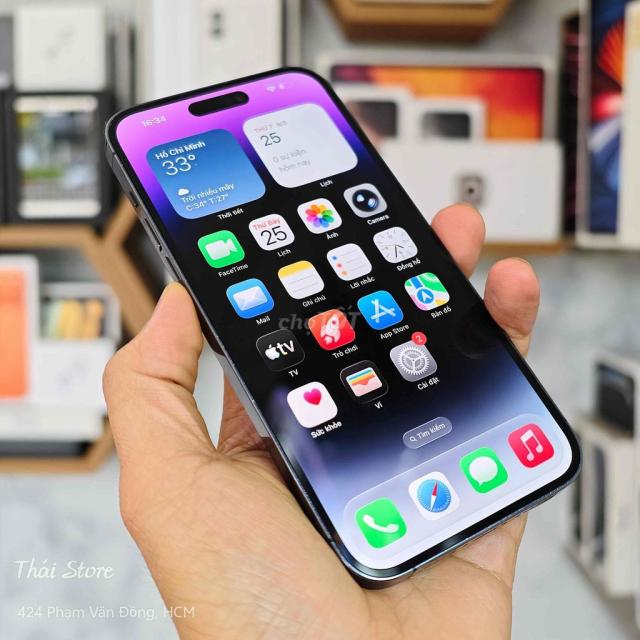gen_14: (77, 43, 584, 575)
scratch: (267, 439, 346, 566)
